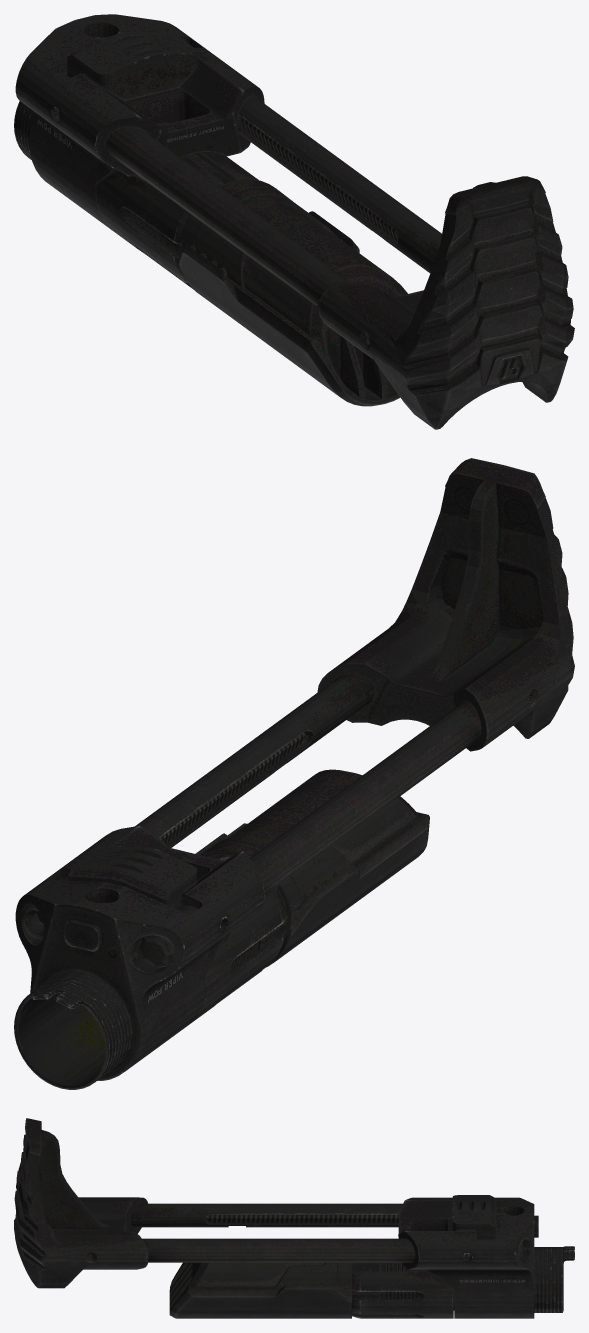
The picture shows the model from 3 angles, top to bottom: view 1: azimuth 30°, elevation 25°; view 2: azimuth 150°, elevation 25°; view 3: azimuth 270°, elevation 25°; orthographic projection. The views are drawn at different scales.
Visible parts, largest first — view 1: TW_627254cc9c563e6e442c398f_PZ_Import; view 2: TW_627254cc9c563e6e442c398f_PZ_Import; view 3: TW_627254cc9c563e6e442c398f_PZ_Import.
Boxes of the visible parts, x1,y1,x2,y2 form: TW_627254cc9c563e6e442c398f_PZ_Import: [14, 14, 574, 429]; TW_627254cc9c563e6e442c398f_PZ_Import: [14, 458, 574, 1089]; TW_627254cc9c563e6e442c398f_PZ_Import: [14, 1118, 574, 1318].
Bounding box in the file's own units: 0.0302 × 0.1425 × 0.0525.
1 material, 1 textured.
